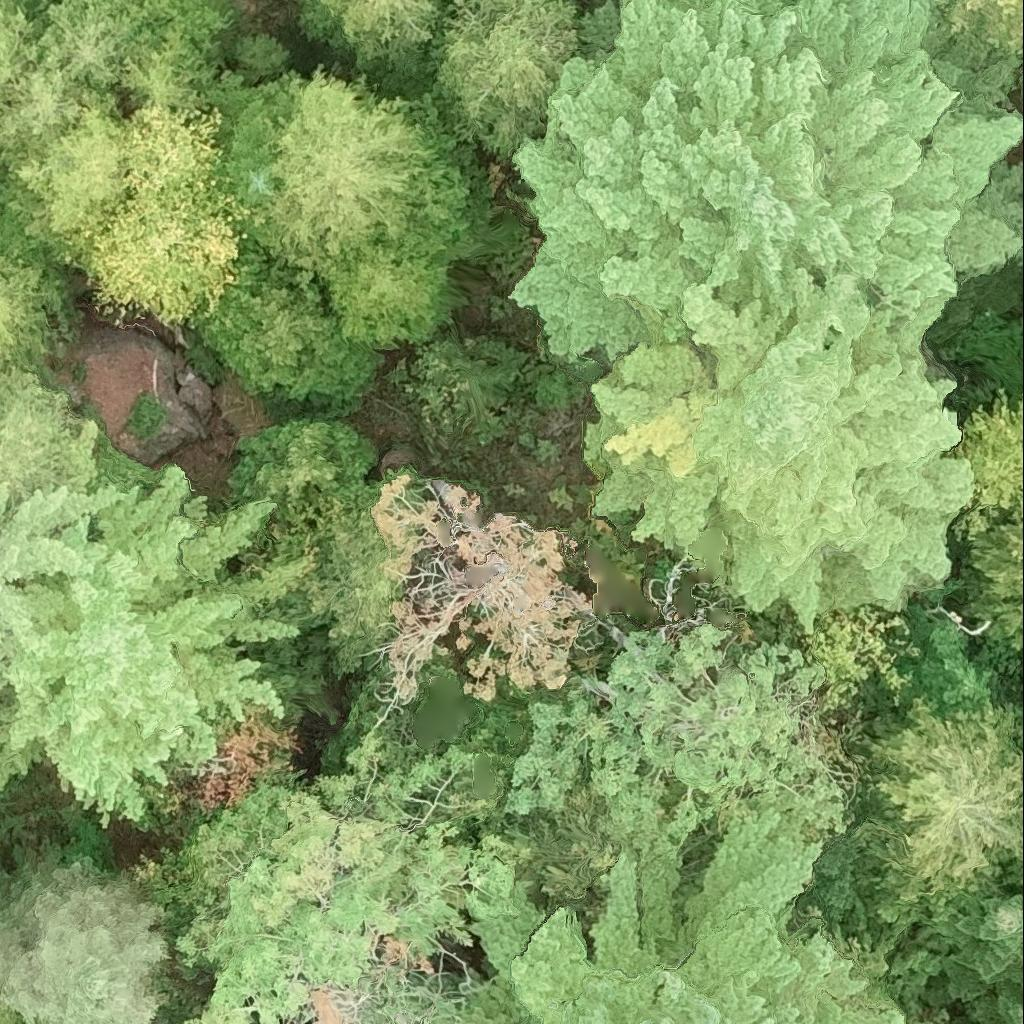crown: (512, 0, 1023, 367), (585, 284, 972, 639), (56, 108, 254, 324), (256, 66, 434, 285), (203, 236, 373, 400), (434, 0, 580, 148), (4, 89, 132, 252), (314, 218, 467, 347), (207, 71, 311, 251), (39, 0, 235, 90), (227, 418, 378, 532), (384, 337, 527, 442), (0, 368, 98, 515), (407, 94, 491, 258), (0, 207, 76, 373), (117, 21, 234, 125), (0, 54, 88, 187), (318, 0, 443, 59), (932, 0, 1023, 55), (0, 0, 50, 86), (18, 0, 61, 37)
